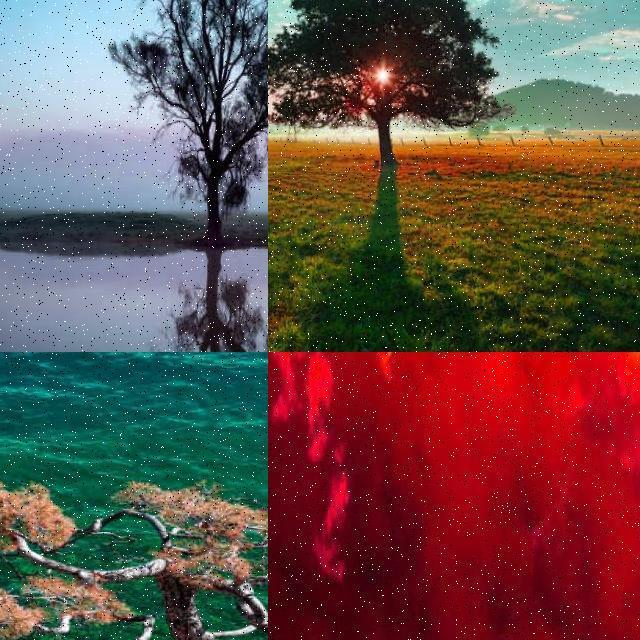tree: (0, 452, 268, 640), (268, 0, 512, 192), (104, 0, 268, 264), (464, 352, 512, 476), (518, 352, 566, 452), (578, 352, 622, 456), (350, 352, 378, 423), (268, 352, 280, 412)
